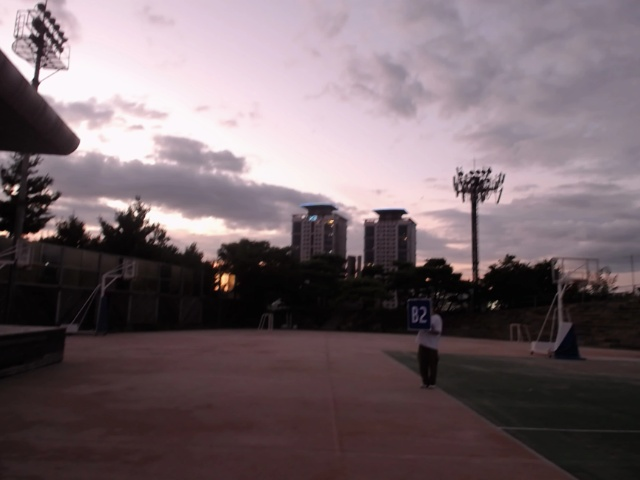delivery_b2: (402, 295, 432, 332)
